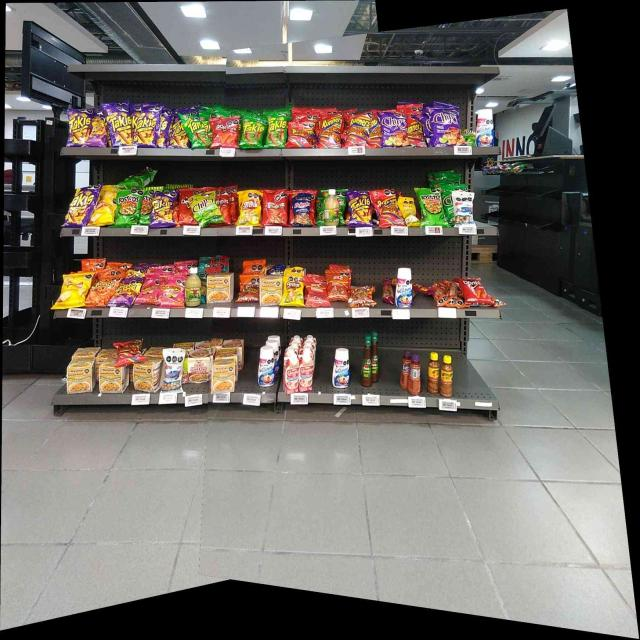bitzEnchilado90: (329, 274, 346, 300), (308, 282, 326, 306)
bitzEnchilado95: (437, 281, 460, 307)
bokadosCacahuates: (294, 195, 310, 227)
botaneraChilito: (440, 355, 452, 398), (427, 352, 439, 393)
cheetosFlaminHot: (119, 284, 135, 304)
cheetosOriginal: (91, 282, 112, 300)
chipsFuego: (381, 115, 407, 146), (435, 111, 457, 145), (425, 118, 432, 140)
chipsJalapeno: (443, 193, 452, 216)
chipsPapatinas: (192, 195, 214, 222)
churrumais: (160, 283, 184, 307), (140, 282, 160, 302)
delPrimoSalsa: (185, 268, 201, 307), (324, 188, 339, 226)
doritosNacho: (213, 120, 238, 148), (463, 278, 486, 303), (180, 193, 191, 223), (216, 192, 233, 206)
fritosLimon: (242, 192, 260, 225), (285, 280, 302, 305)
leoCacahuates: (164, 350, 183, 392), (454, 192, 473, 226)
leoMix: (241, 278, 259, 301), (354, 286, 371, 304)
maruchanPollo: (212, 358, 236, 392), (207, 274, 233, 304), (134, 364, 158, 390), (261, 276, 281, 306), (69, 366, 91, 392), (100, 367, 123, 391)
nestleCarnation: (298, 352, 313, 391), (283, 353, 297, 393)
nestleLechera: (257, 344, 276, 386), (333, 348, 351, 388), (476, 108, 494, 146), (396, 268, 412, 308)
nissinRes: (189, 351, 210, 381)
rancheritos: (266, 193, 286, 225)
runners: (376, 190, 398, 225), (322, 119, 341, 148), (350, 118, 370, 145), (290, 125, 312, 148), (408, 123, 422, 144)
sabritasOriginal: (60, 276, 85, 307), (96, 199, 112, 222)
salsaBufalo: (362, 333, 372, 386), (372, 331, 379, 382)
semillasCalabaza: (401, 199, 415, 225)
tajinDulce: (408, 354, 420, 394)
takisFuego: (67, 108, 94, 146), (107, 108, 131, 146), (132, 113, 158, 148), (70, 190, 93, 225), (348, 194, 371, 225), (153, 195, 173, 225), (171, 124, 183, 148)
takisOriginal: (243, 119, 263, 148), (266, 117, 285, 147), (188, 120, 204, 148)
tostitos: (420, 190, 441, 225), (117, 194, 140, 224), (142, 192, 152, 223)
